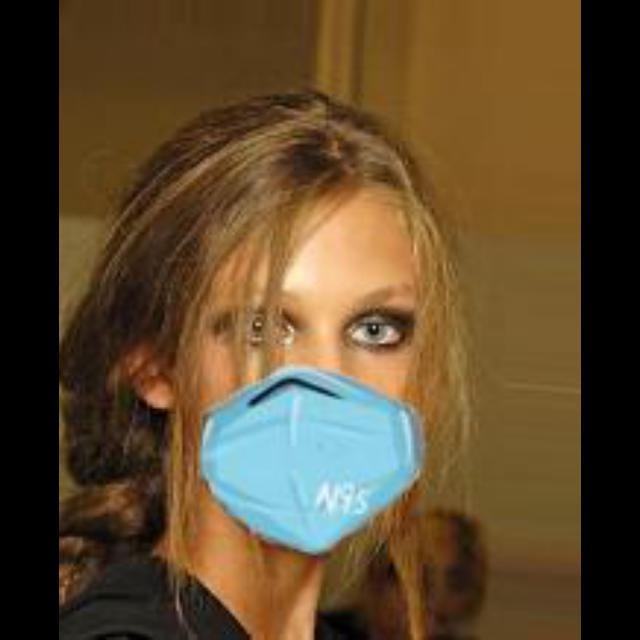suspicion: (155, 93, 530, 574)
